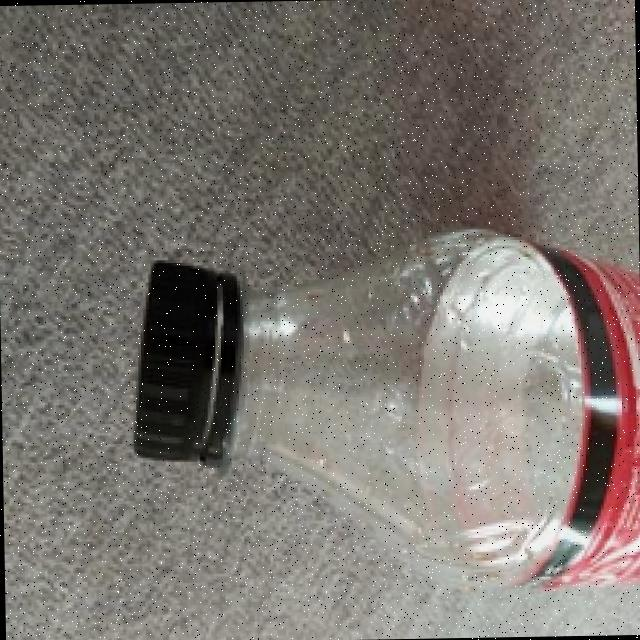bottle: (133, 234, 640, 594)
cap: (128, 256, 250, 467)
label: (463, 259, 640, 604)
